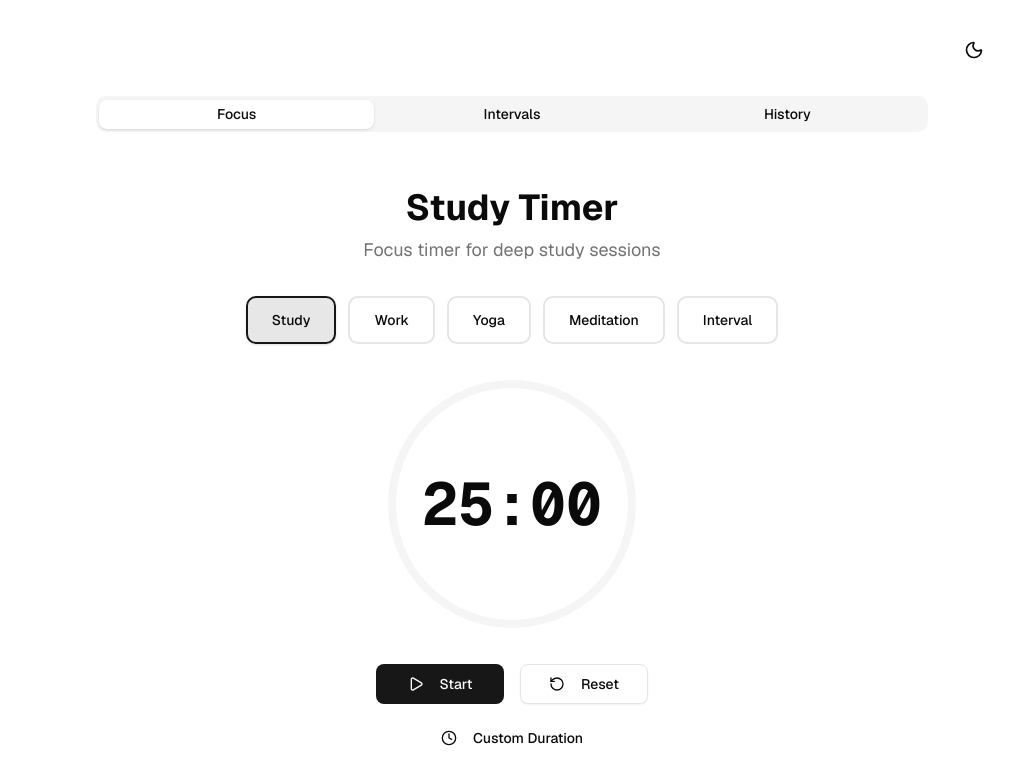
Test: FocusTabs › Focus Mode Switching › should update title when switching to Yoga mode
Click the text "Yoga". click: (489, 320)
box: [473,310,505,330]
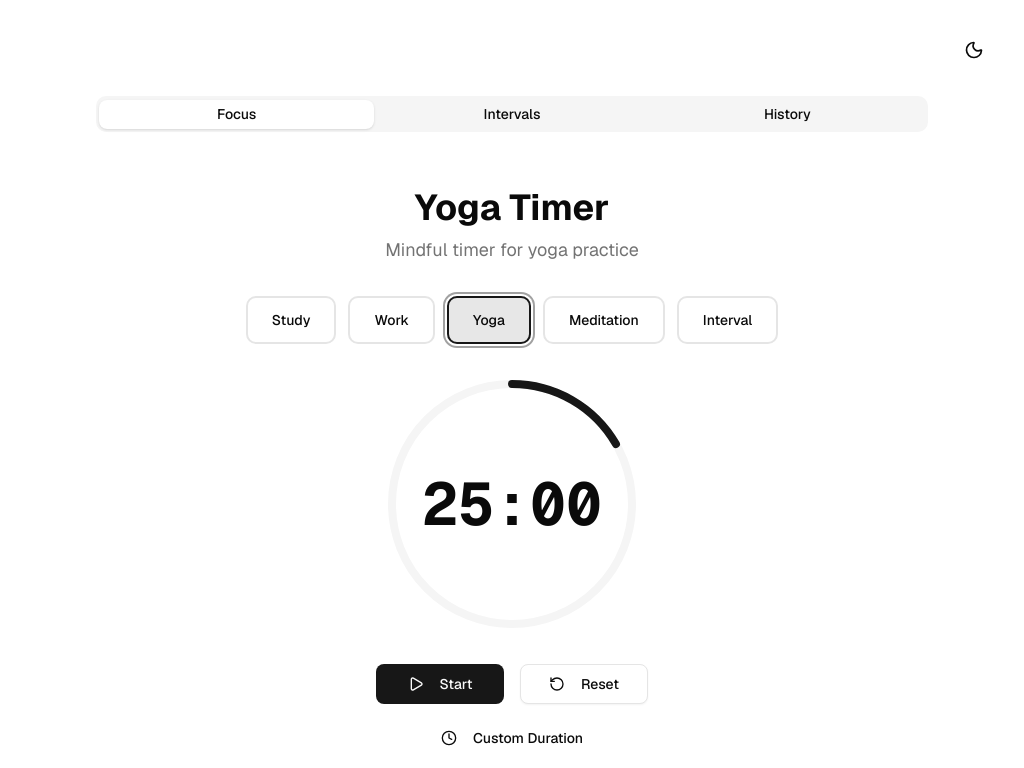
Now the heading "Yoga Timer" is shown, box [415,184,609,231]
Now the text "Mindful timer for yoga practice" is shown, box [385,238,639,261]
